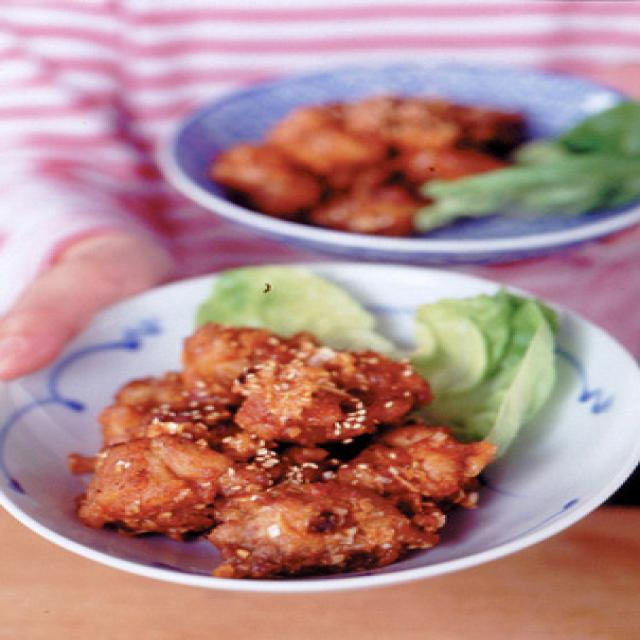鸡肉料理 含炸鸡: (25, 270, 542, 616)
